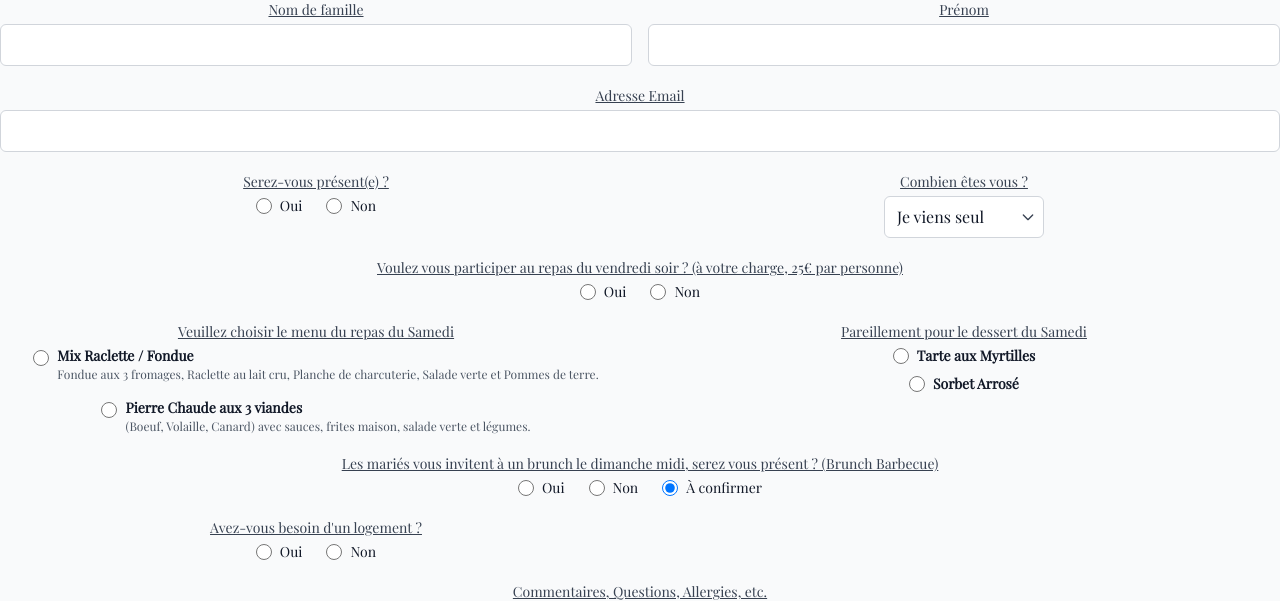
Test: RsvpForm › renders accommodation dates select when accommodation is needed
Expected: the text "Si besoin d'un logement quelles seraient vos dates ?" is not shown
// Cliquer sur "Oui" pour l'hébergement
Click the radio button labelled "Oui" below "Avez-vous besoin d'un logement ?" at (264, 552), box [256, 544, 272, 560]
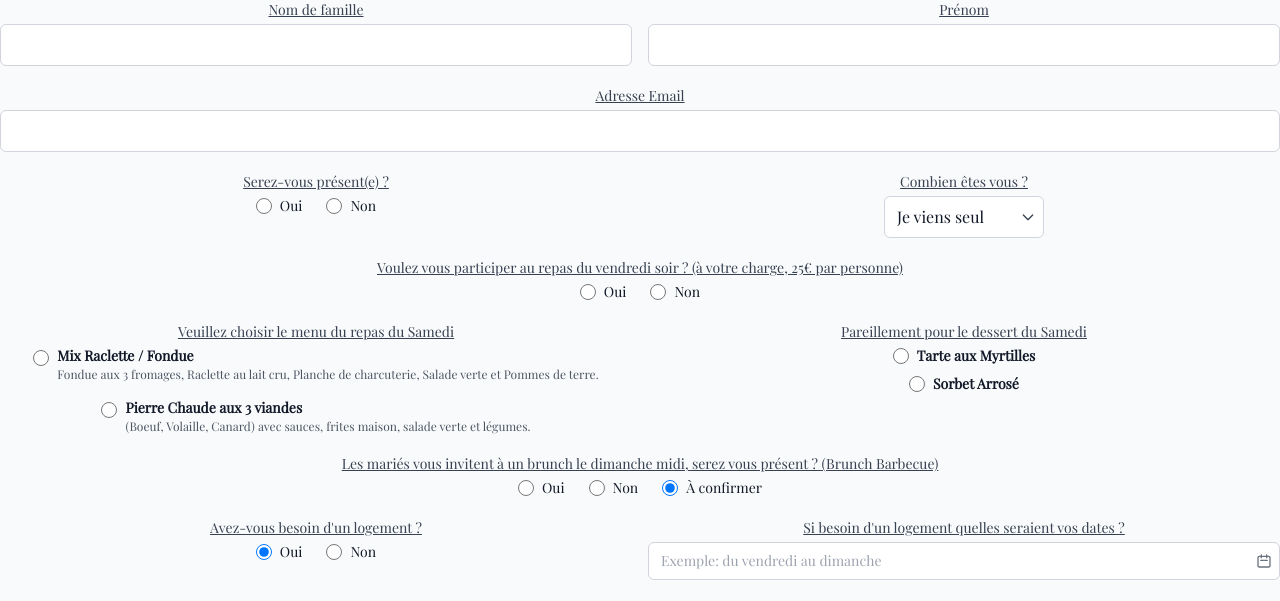
Expected: the text "Si besoin d'un logement quelles seraient vos dates ?" is shown, [803, 518, 1125, 537]
